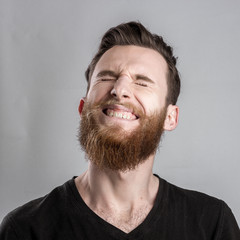young: (69, 23, 183, 160)
